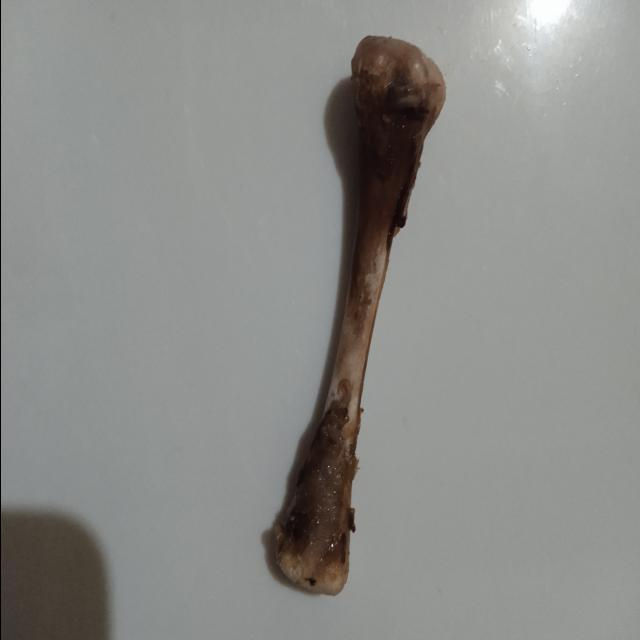bone: (252, 8, 454, 608)
